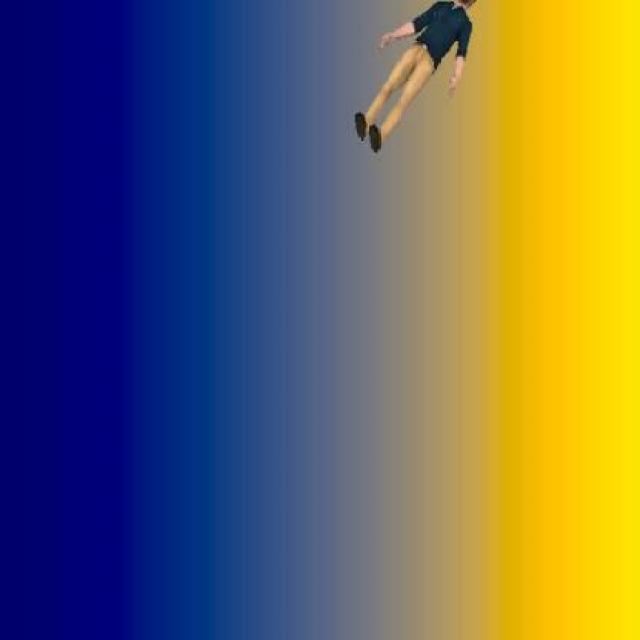Person: (349, 0, 480, 157)
